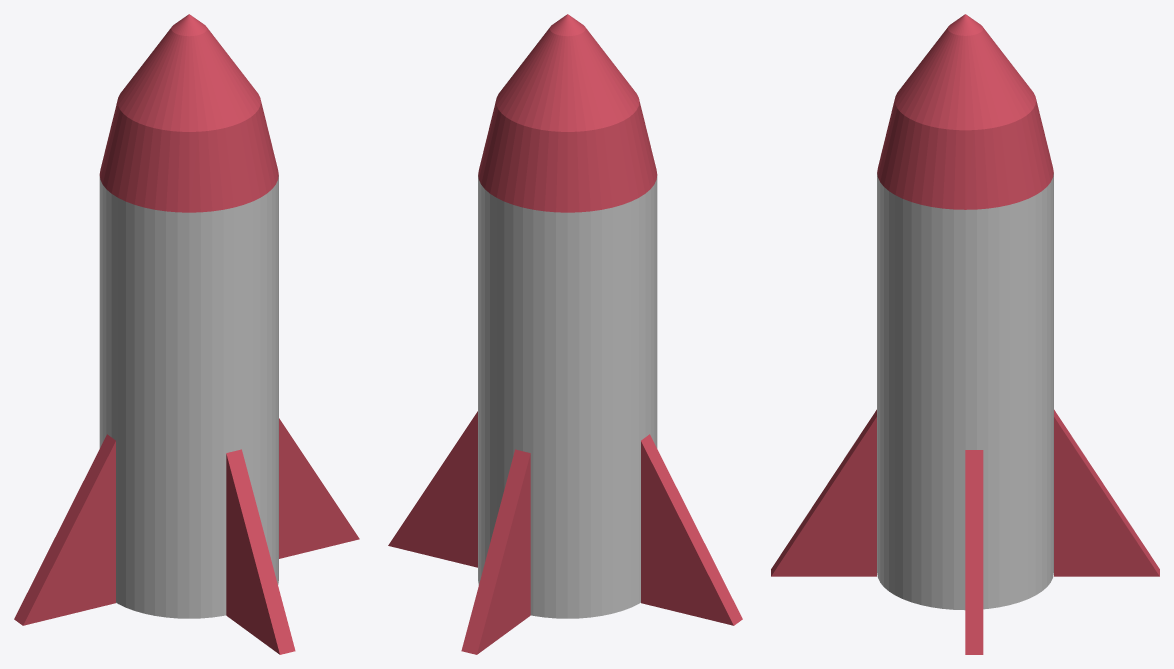
File: missile.glb
3 views of the same model, side by side, from view 1: azimuth 30°, elevation 25°; view 2: azimuth 150°, elevation 25°; view 3: azimuth 270°, elevation 25° (orthographic).
Parts seen in each view (by area): view 1: Mesh_Mesh_head_geo.001_lambert2SG.001; view 2: Mesh_Mesh_head_geo.001_lambert2SG.001; view 3: Mesh_Mesh_head_geo.001_lambert2SG.001.
Part boxes in pixels (bbox=[...]): Mesh_Mesh_head_geo.001_lambert2SG.001: bbox=[14, 14, 359, 654]; Mesh_Mesh_head_geo.001_lambert2SG.001: bbox=[388, 14, 742, 654]; Mesh_Mesh_head_geo.001_lambert2SG.001: bbox=[771, 14, 1159, 654].
Bounding box in the file's own units: 0.044 × 0.0698 × 0.044.
